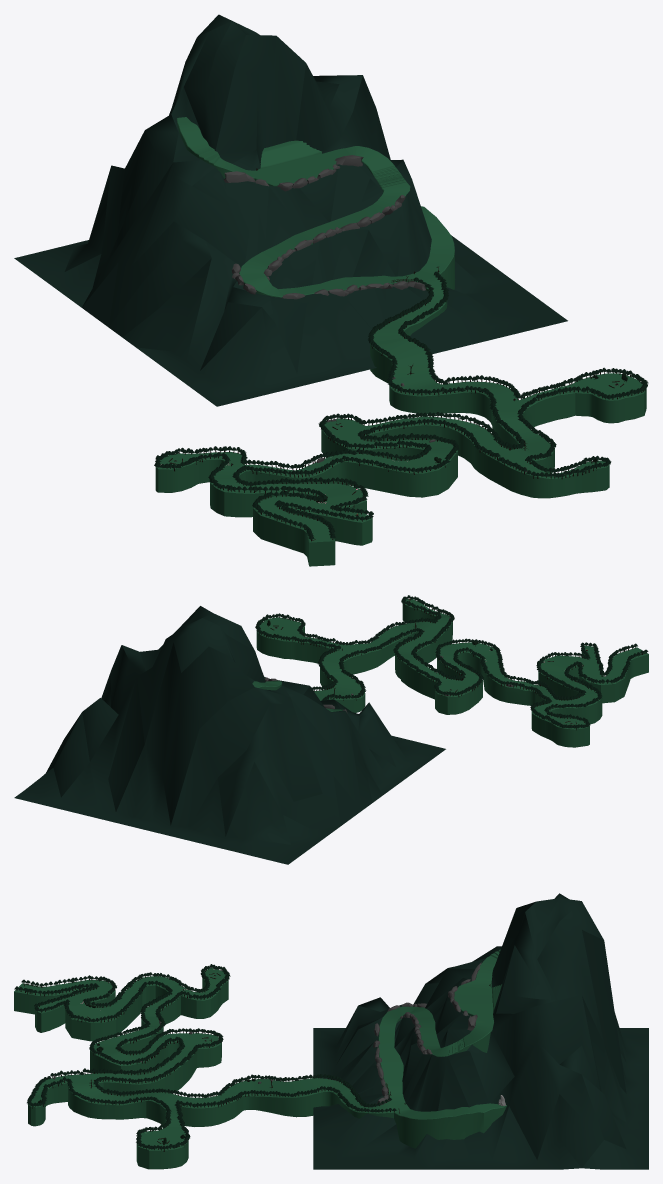
Rendered from Level_WitchHunt.fbx.
3 renders of one model, top to bottom at view 1: azimuth 30°, elevation 25°; view 2: azimuth 150°, elevation 25°; view 3: azimuth 270°, elevation 25°, orthographic. The views are drawn at different scales.
Visible parts, largest first — view 1: Level01_2; view 2: Level01_2; view 3: Level01_2.
Part boxes in pixels (x1,y1,x2,y2): Level01_2: (14,14,648,566); Level01_2: (14,595,648,864); Level01_2: (14,893,648,1169).
Size of what is drawn, in the model's own units: 2912 by 4077 by 1462.
